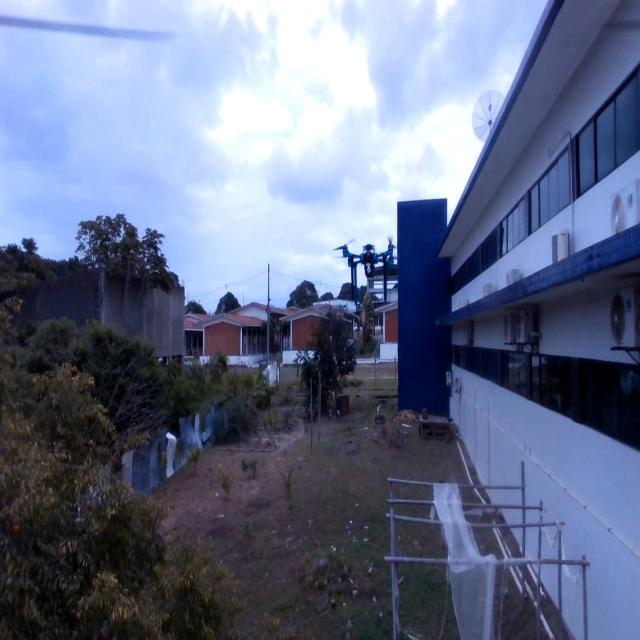-uav-: (323, 215, 419, 317)
